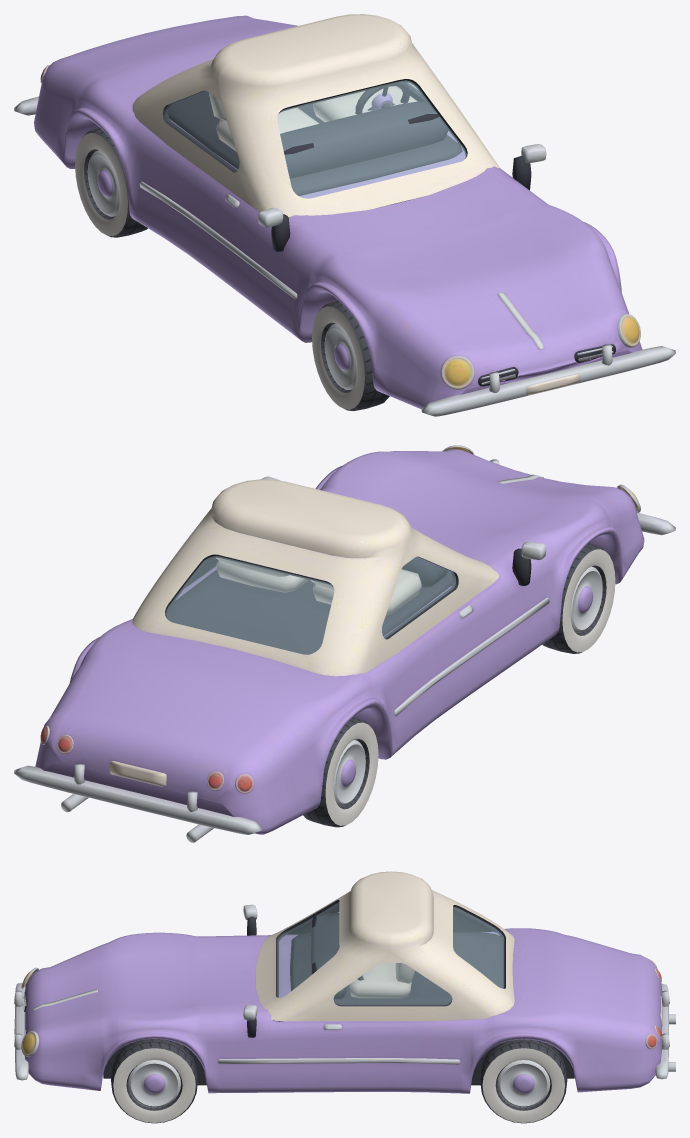
The model's file is coupe.glb.
3 renders of one model, top to bottom at view 1: azimuth 30°, elevation 25°; view 2: azimuth 150°, elevation 25°; view 3: azimuth 270°, elevation 25°, orthographic. The views are drawn at different scales.
Parts seen in each view (by area): view 1: coupe_body, coupe_windows, coupe_wheel_fr, coupe_wheel_rr; view 2: coupe_body, coupe_windows, coupe_wheel_rr, coupe_wheel_fr; view 3: coupe_body, coupe_windows, coupe_wheel_fl, coupe_wheel_rl.
Boxes of the visible parts, bbox=[...] form: coupe_body: bbox=[14, 14, 675, 416]; coupe_windows: bbox=[165, 80, 466, 198]; coupe_wheel_fr: bbox=[312, 300, 389, 411]; coupe_wheel_rr: bbox=[75, 127, 147, 237]; coupe_body: bbox=[14, 445, 675, 842]; coupe_windows: bbox=[166, 556, 455, 654]; coupe_wheel_rr: bbox=[303, 717, 378, 827]; coupe_wheel_fr: bbox=[542, 543, 615, 653]; coupe_body: bbox=[14, 871, 675, 1093]; coupe_windows: bbox=[277, 902, 503, 1004]; coupe_wheel_fl: bbox=[111, 1039, 198, 1123]; coupe_wheel_rl: bbox=[480, 1039, 567, 1123].
Bounding box in the file's own units: 1.81 × 1.37 × 4.7.
Materials: 22 (5 with a texture image).
